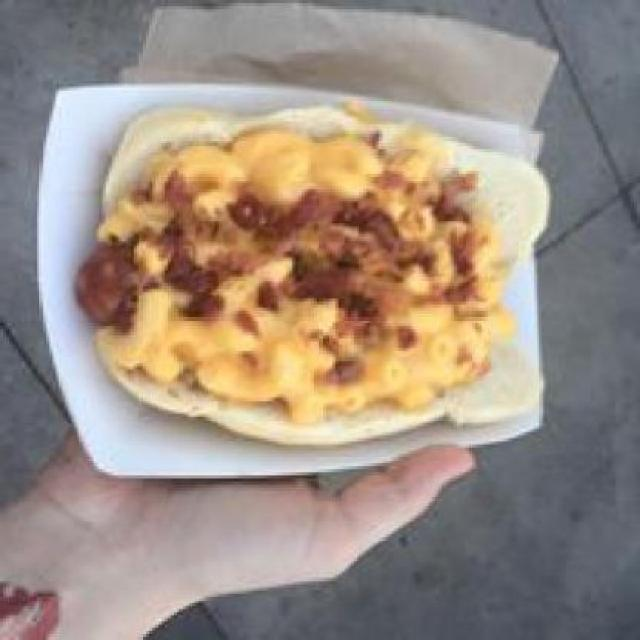hot dog: (71, 217, 146, 326)
macaroni and cheese: (146, 124, 503, 419)
